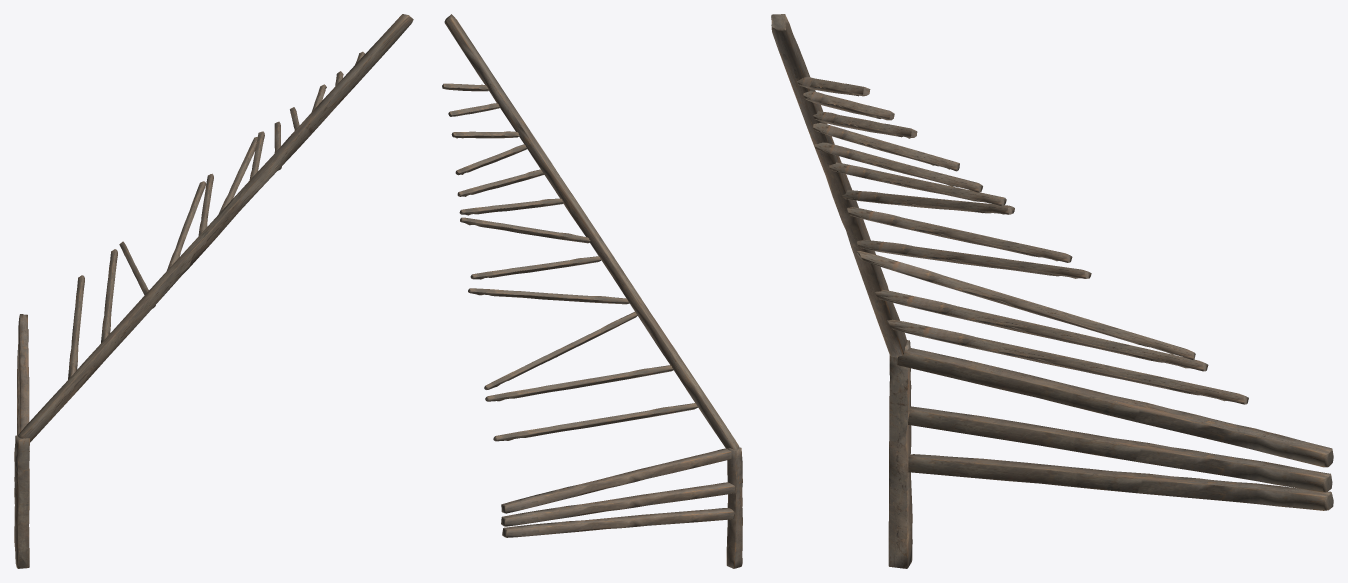
File: Tent_P_WoodenStand10.FBX
3 views of the same model, side by side, from view 1: azimuth 30°, elevation 25°; view 2: azimuth 150°, elevation 25°; view 3: azimuth 270°, elevation 25° (orthographic). The views are drawn at different scales.
Parts seen in each view (by area): view 1: Tent_P_WoodenStand10; view 2: Tent_P_WoodenStand10; view 3: Tent_P_WoodenStand10.
Boxes of the visible parts, x1,y1,x2,y2 form: Tent_P_WoodenStand10: (14, 14, 413, 568); Tent_P_WoodenStand10: (442, 14, 742, 568); Tent_P_WoodenStand10: (771, 14, 1333, 568).
Bounding box in the file's own units: 1321 × 1728 × 1050.
